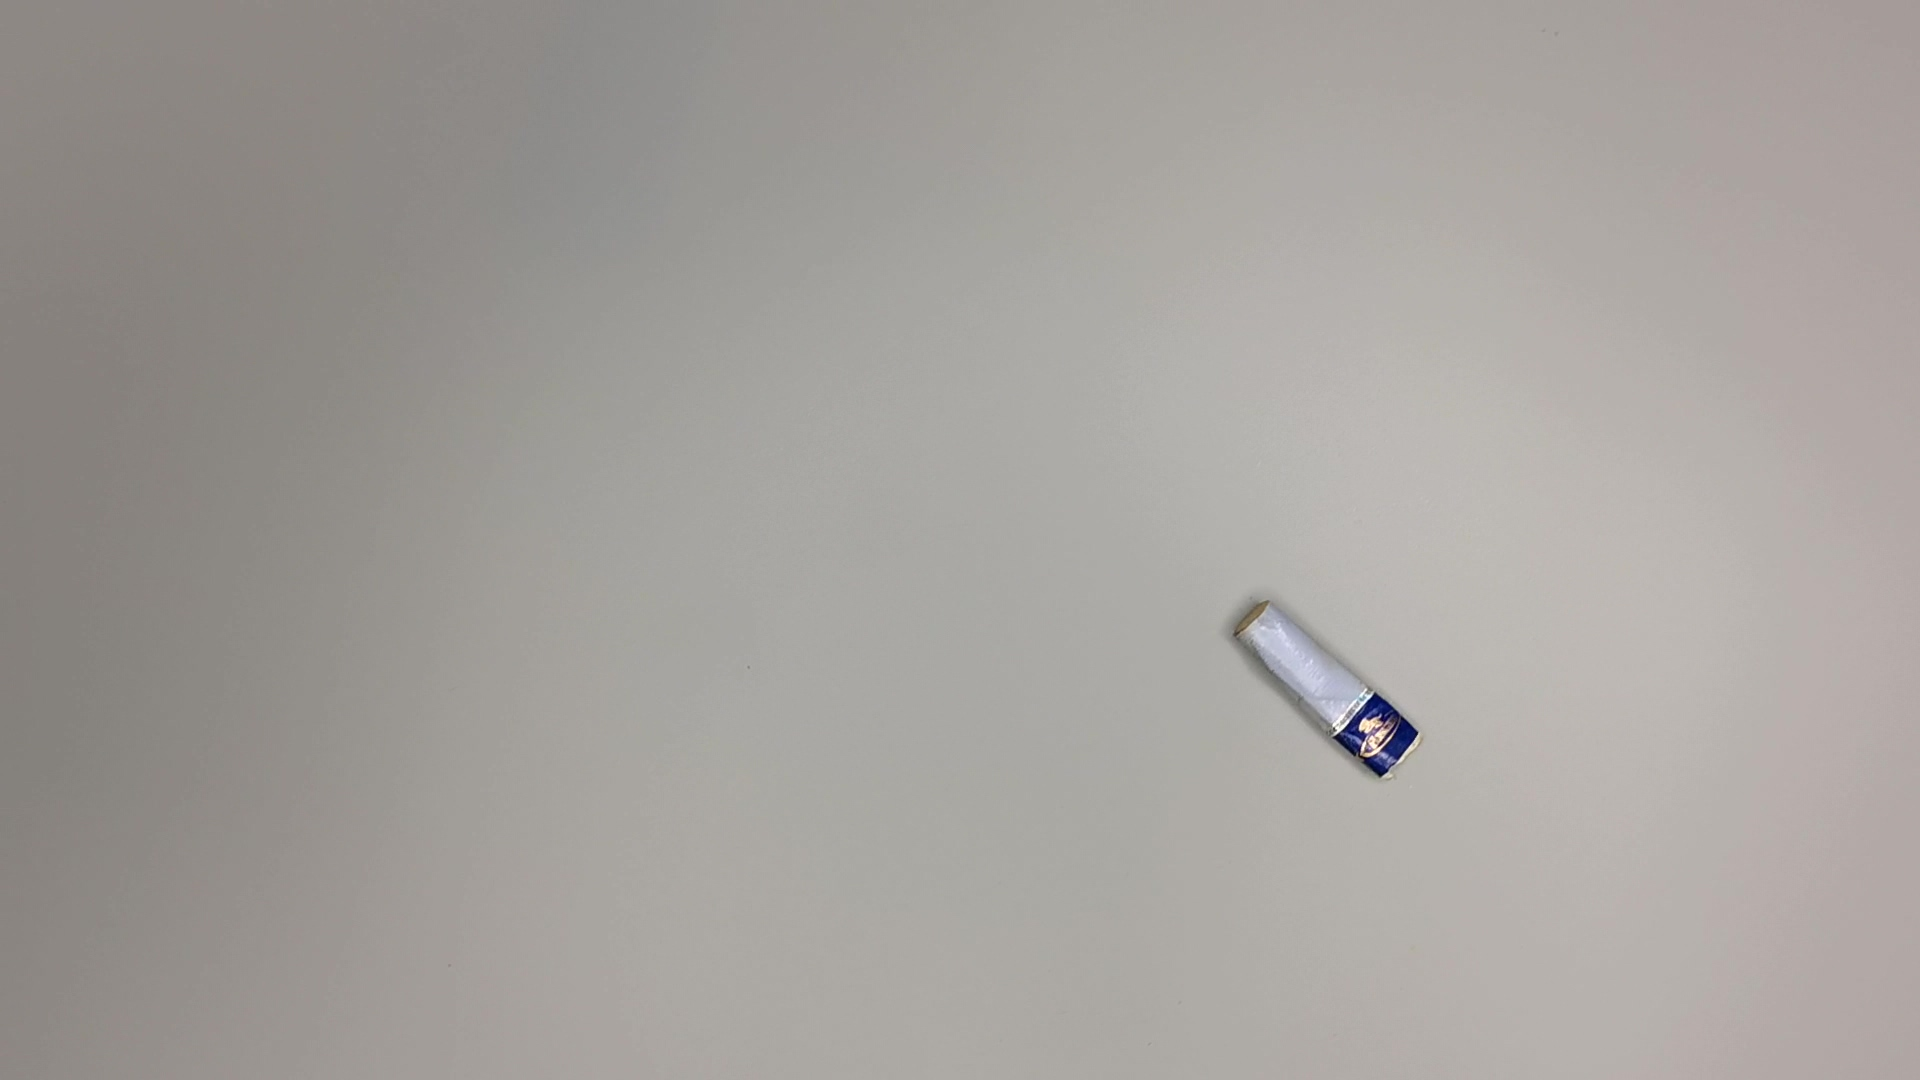cigarette: (1228, 593, 1429, 790)
